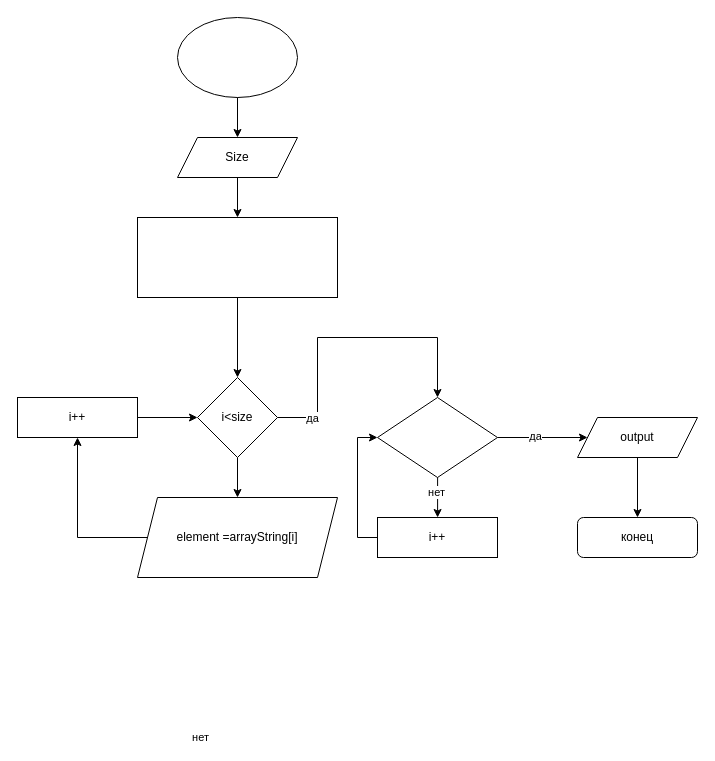
Some shapes in this 715 by 761 pixel diagram are drawn without their labels. Each missing label, with the centre of its shape:
"arrayString[i] <=length" belongs at point (437, 437).
"arrayString[size] = new array int i = 0" belongs at point (237, 257).
"Начало" belongs at point (237, 57).
